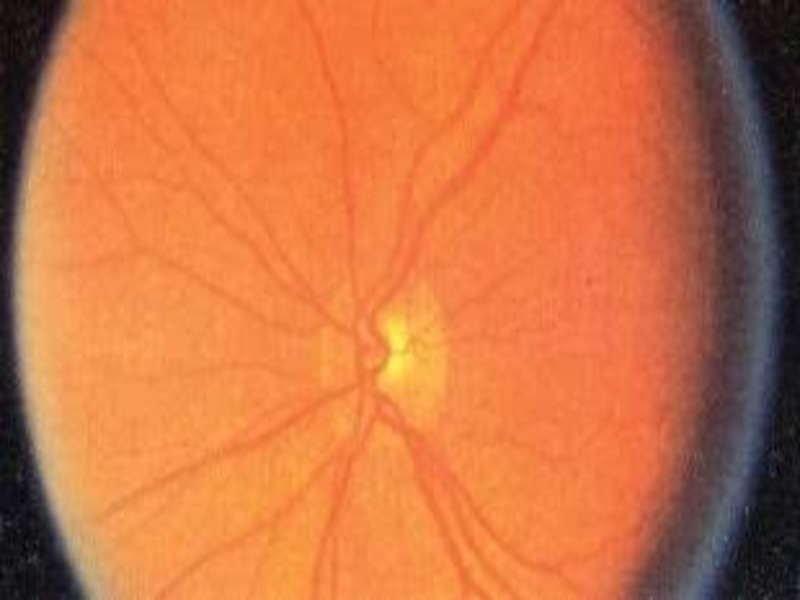Optic Cup: (383, 316, 413, 379)
Optic Disc: (318, 270, 451, 448)
